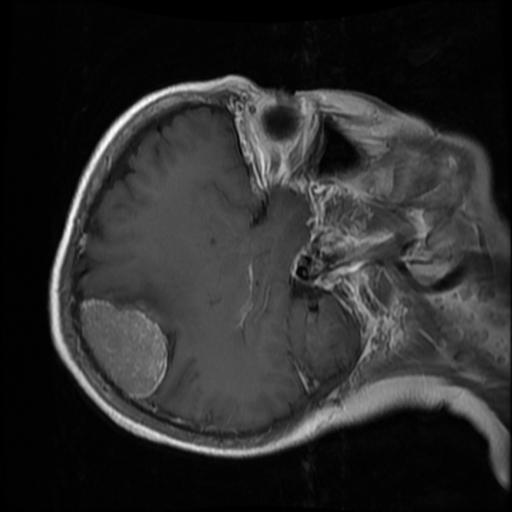meningioma: (80, 299, 167, 400)
